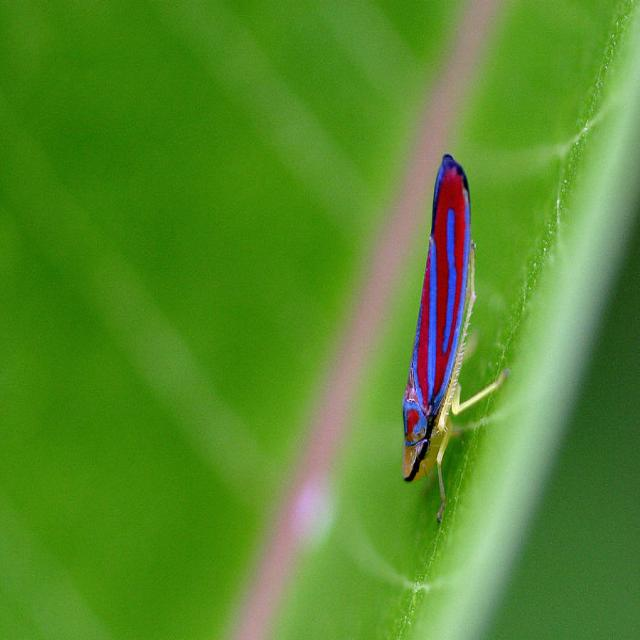Yechan: (384, 141, 518, 514)
